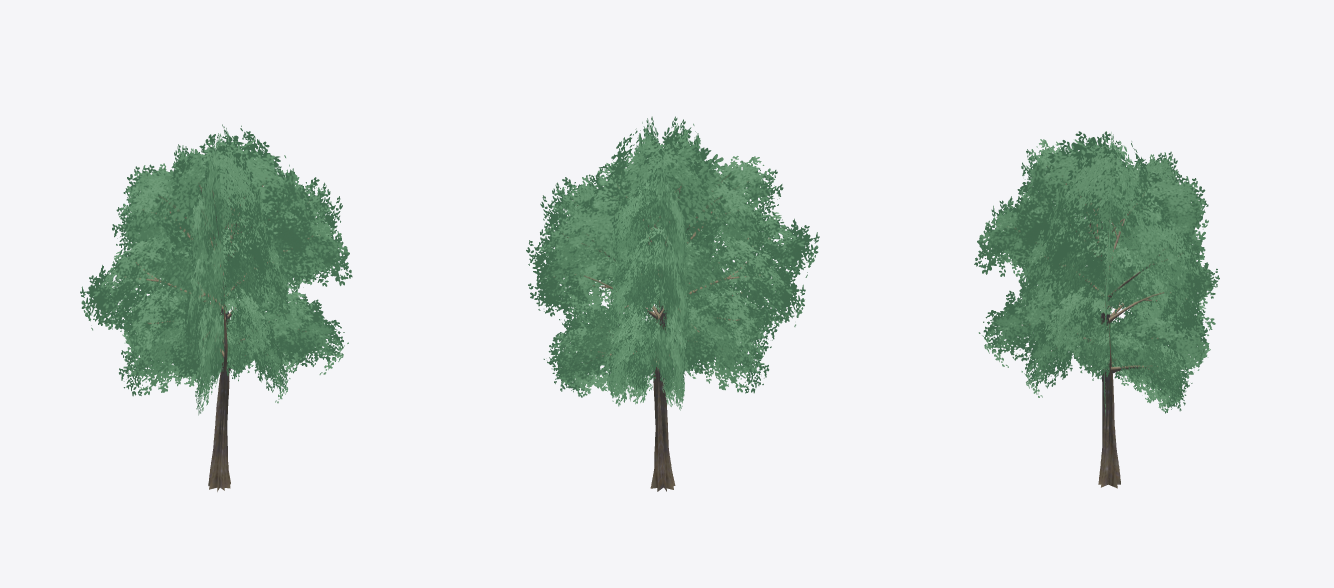
Rendered from OakTree2_Low.fbx.
3 views of the same model, side by side, from view 1: azimuth 30°, elevation 25°; view 2: azimuth 150°, elevation 25°; view 3: azimuth 270°, elevation 25° (orthographic).
Visible parts, largest first — view 1: Tree3Low; view 2: Tree3Low; view 3: Tree3Low.
Part boxes in pixels (box(x1,y1,x2,y2)): Tree3Low: box(80, 124, 352, 491); Tree3Low: box(526, 116, 819, 491); Tree3Low: box(974, 131, 1219, 488).
Bounding box in the file's own units: 498 × 498 × 498.
